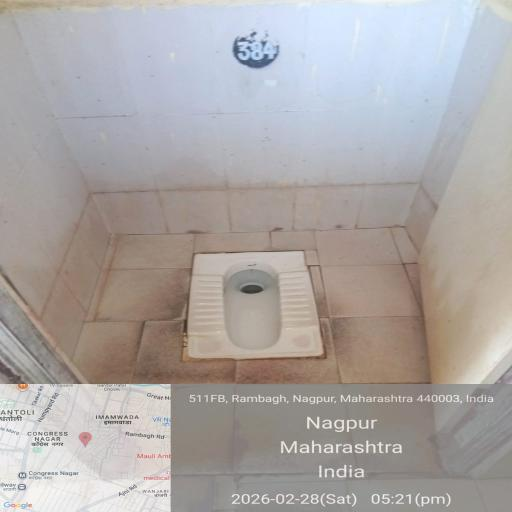clean_floor: (28, 13, 512, 167)
clean_indian: (192, 256, 335, 372)
partial_dirty_floor: (96, 237, 434, 512)
